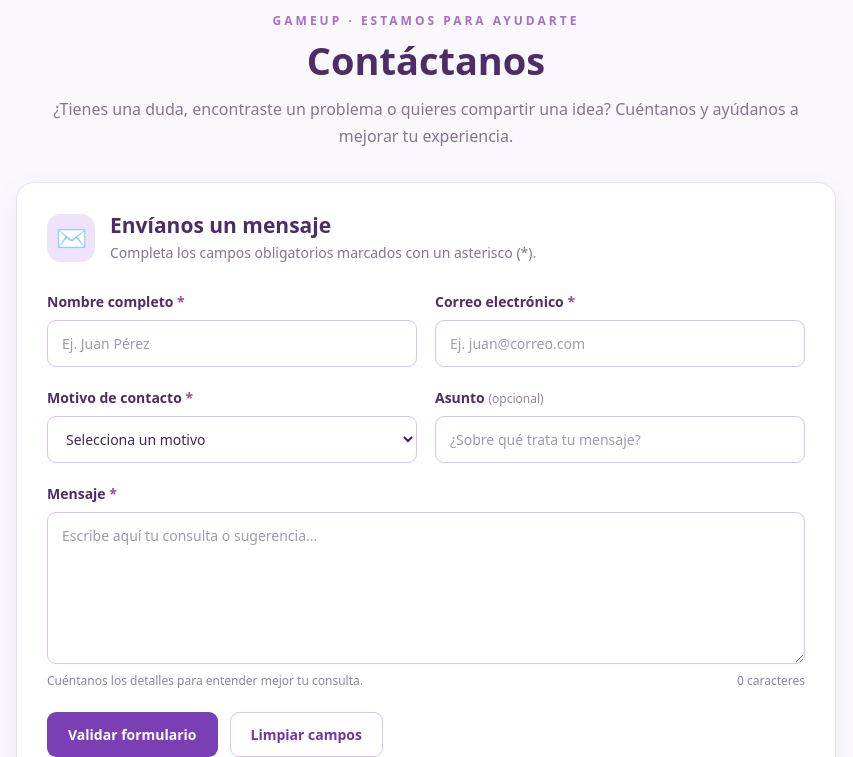
Test: Componente Contacto › rechaza un mensaje de menos de diez caracteres
Type "Ana Pérez" into the field labelled "Nombre completo *" at (232,344), box 47,320 -> 417,367
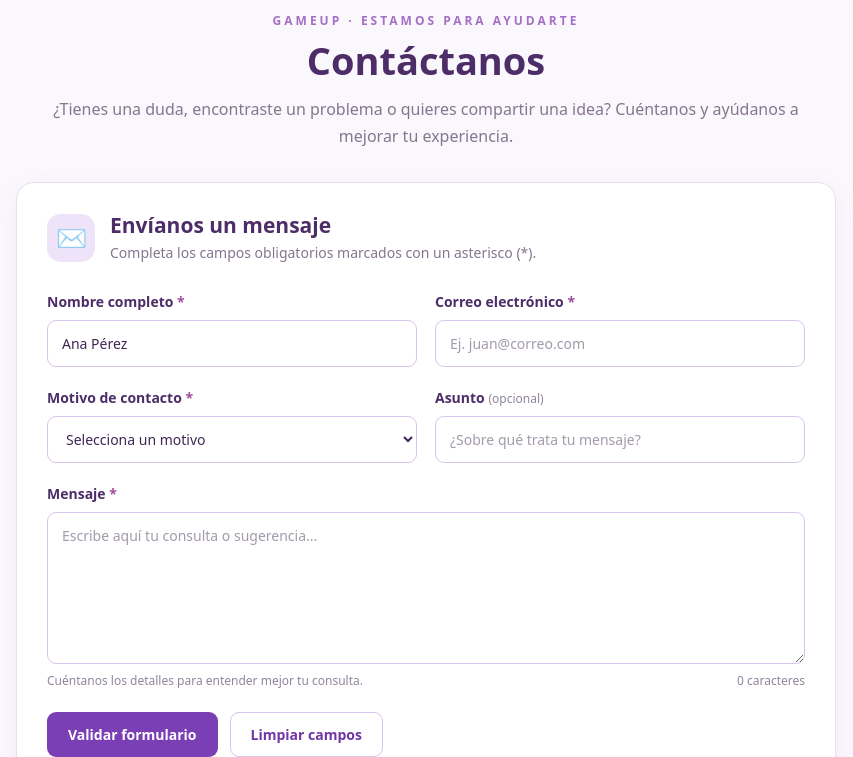
Type "ana@example.com" into the field labelled "Correo electrónico *" at (620,344), box 435,320 -> 805,367
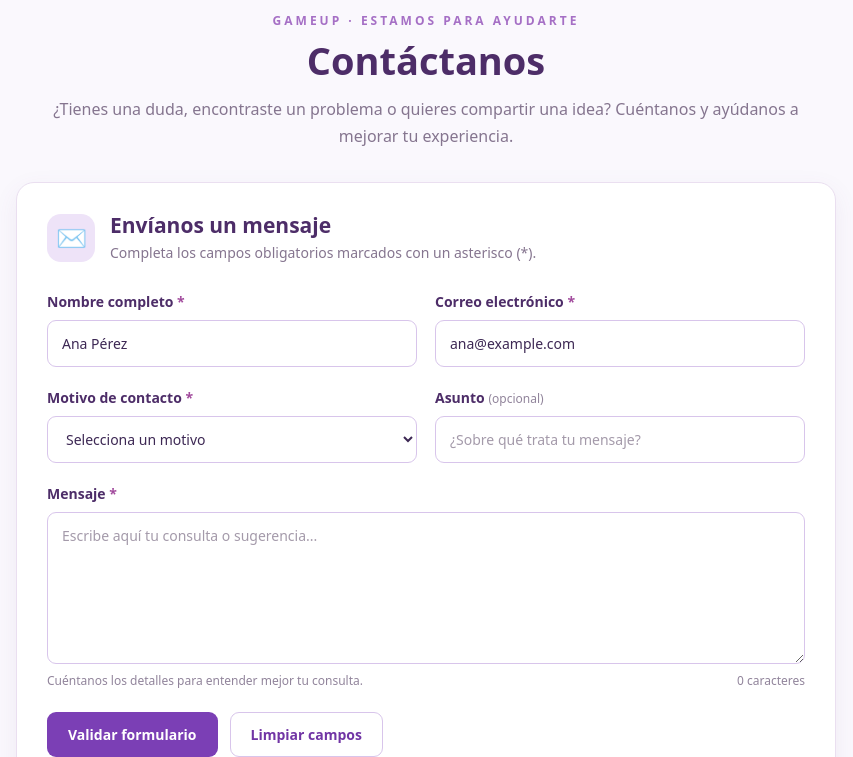
Select "Consulta general" in the dropdown labelled "Motivo de contacto *" at (232,440), box 47,416 -> 417,463
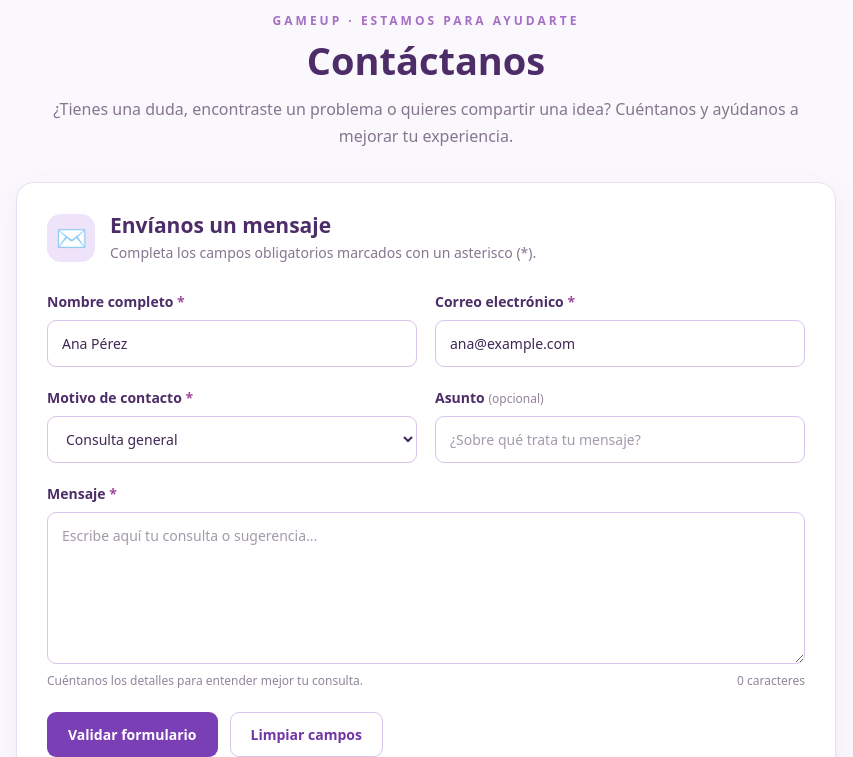
Type "Necesito ayuda con mi biblioteca de videojuegos." into the text box labelled "Mensaje *" at (426,588), box 47,512 -> 805,664
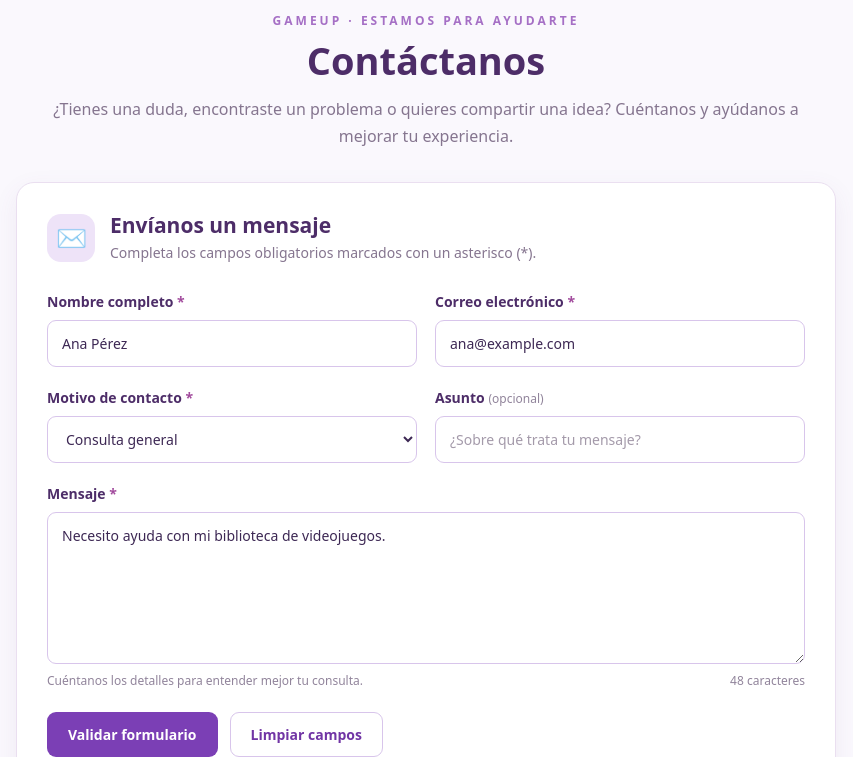
Replace the text in the text box labelled "Mensaje *" with "Hola" at (426,588), box 47,512 -> 805,664
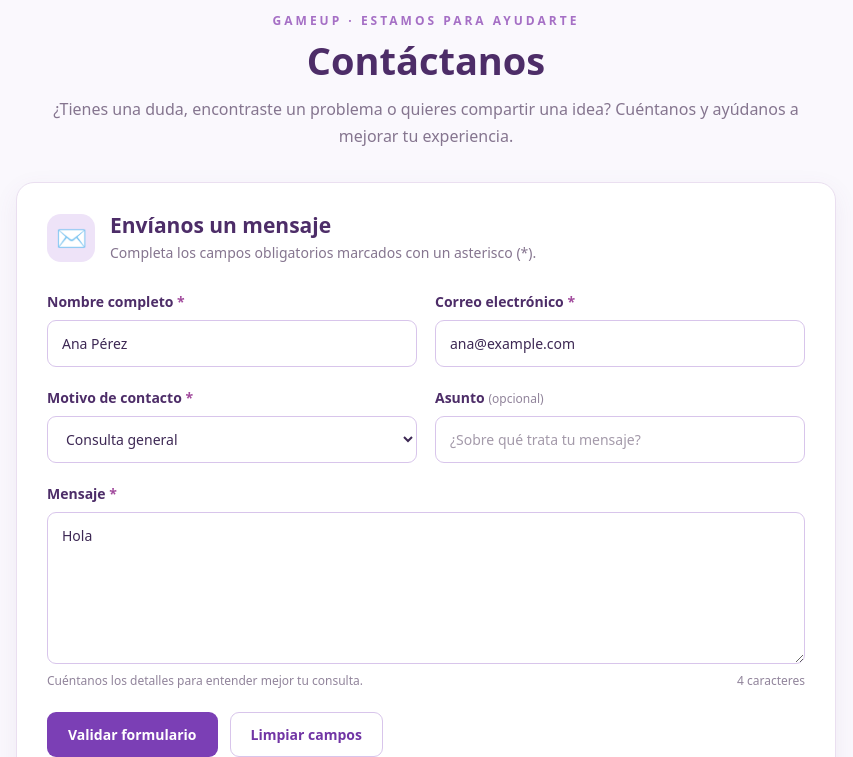
Click the button "Validar formulario" at (132,735), box 47,712 -> 218,756
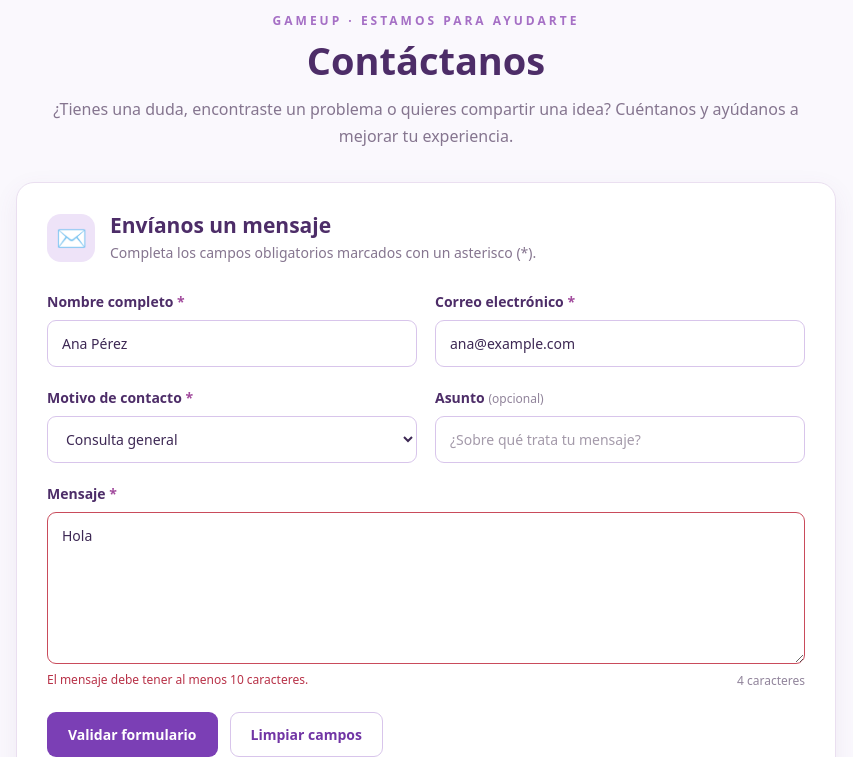
Now the text "El mensaje debe tener al menos 10 caracteres." is shown, box 47,672 -> 308,689
